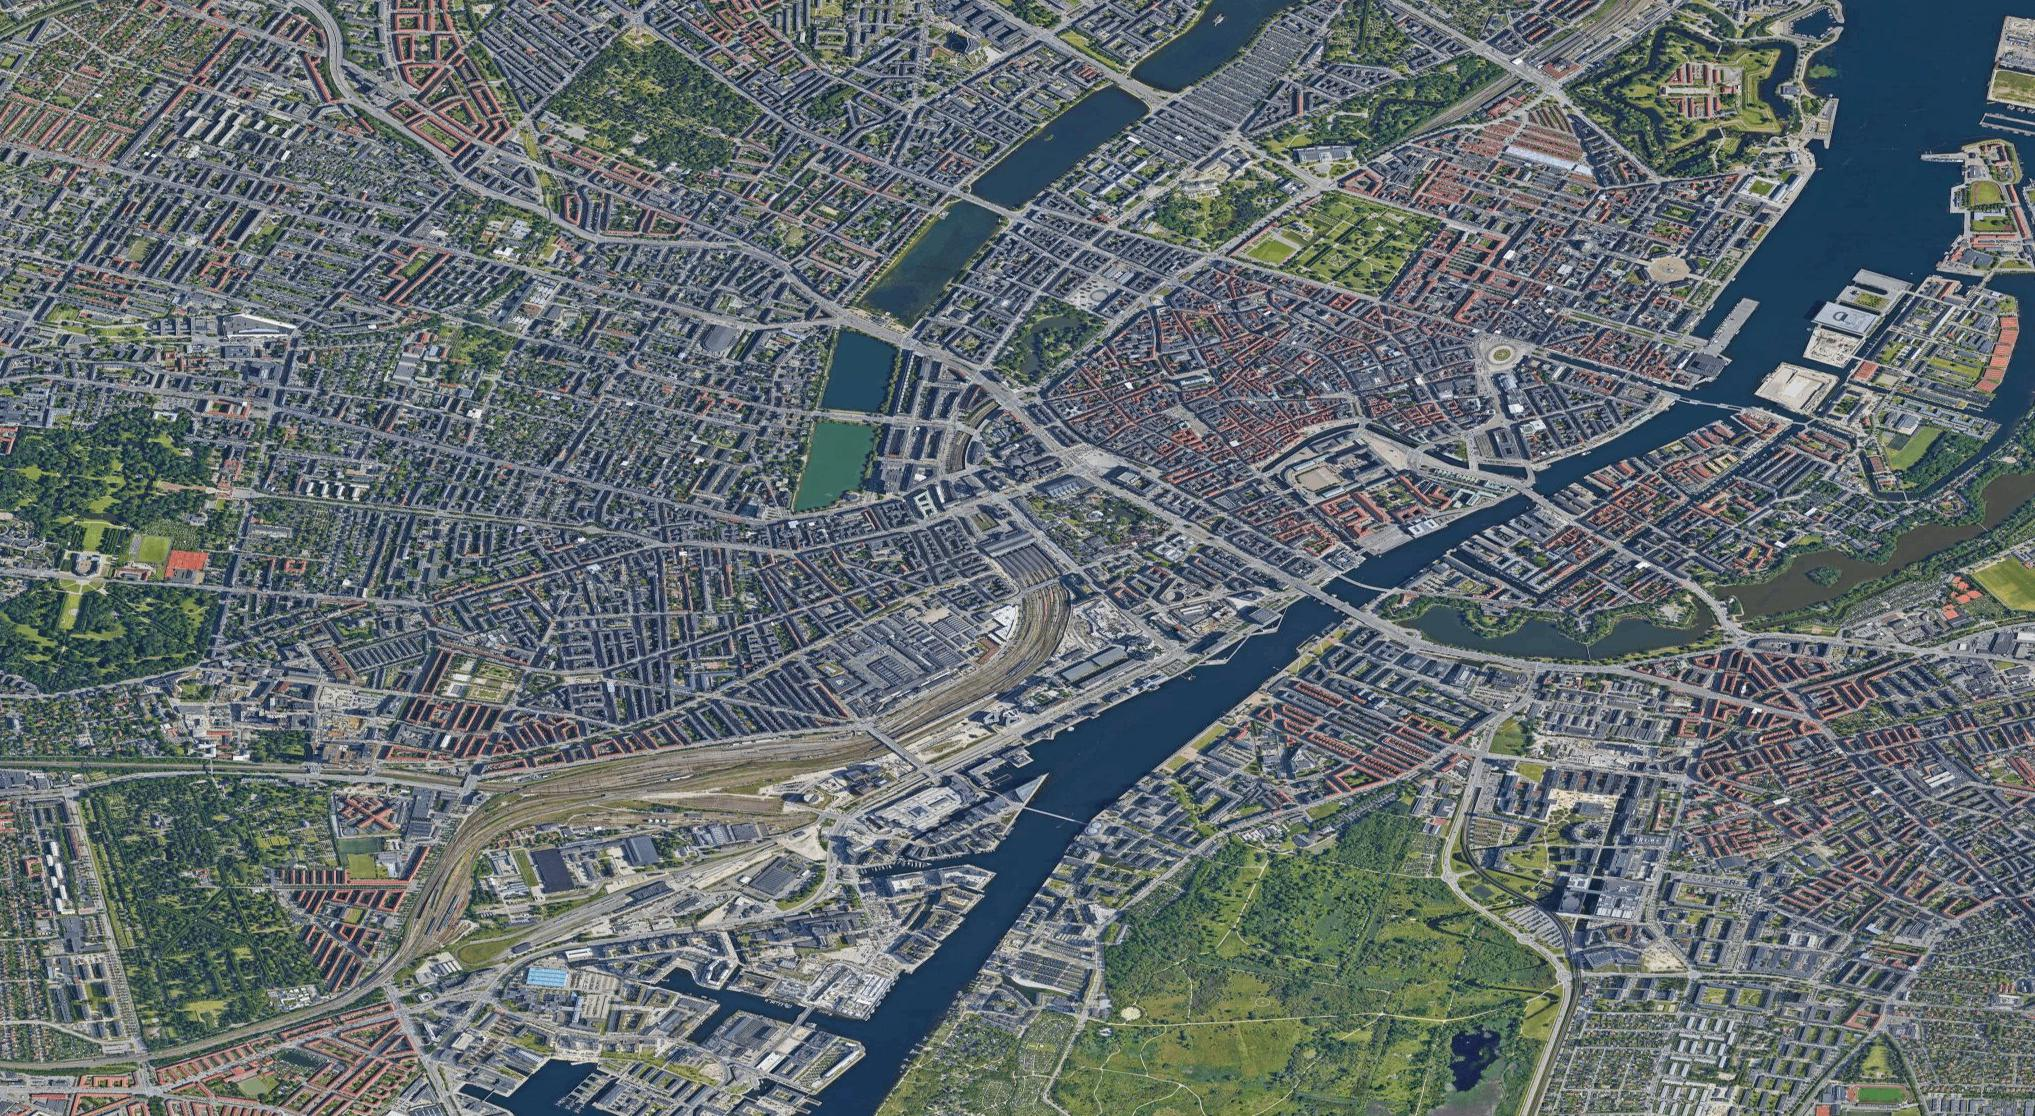bridge: (840, 302, 910, 346), (1305, 577, 1360, 623), (818, 399, 885, 432), (1342, 566, 1393, 606), (864, 722, 914, 761), (1025, 799, 1081, 832), (1109, 71, 1161, 106), (962, 190, 1014, 223), (1676, 393, 1740, 415), (1513, 481, 1555, 511)
train_station: (969, 526, 1081, 612)
